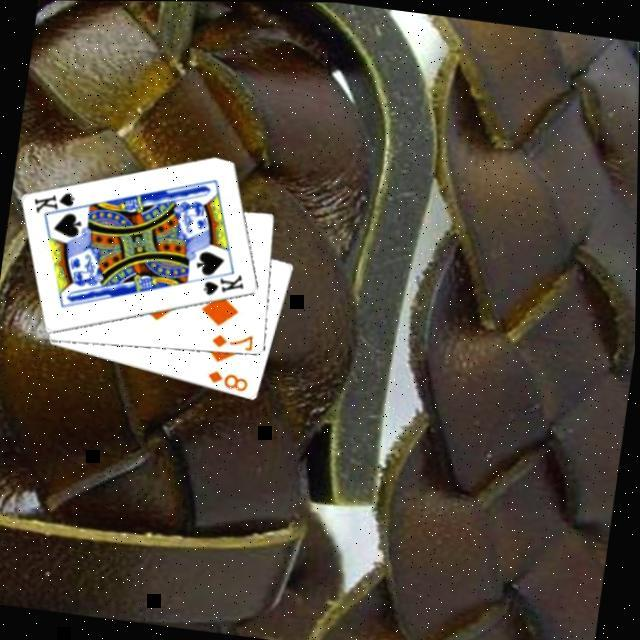7D: (207, 325, 256, 352)
8D: (202, 364, 251, 393)
KS: (27, 183, 83, 221), (198, 265, 247, 300)
